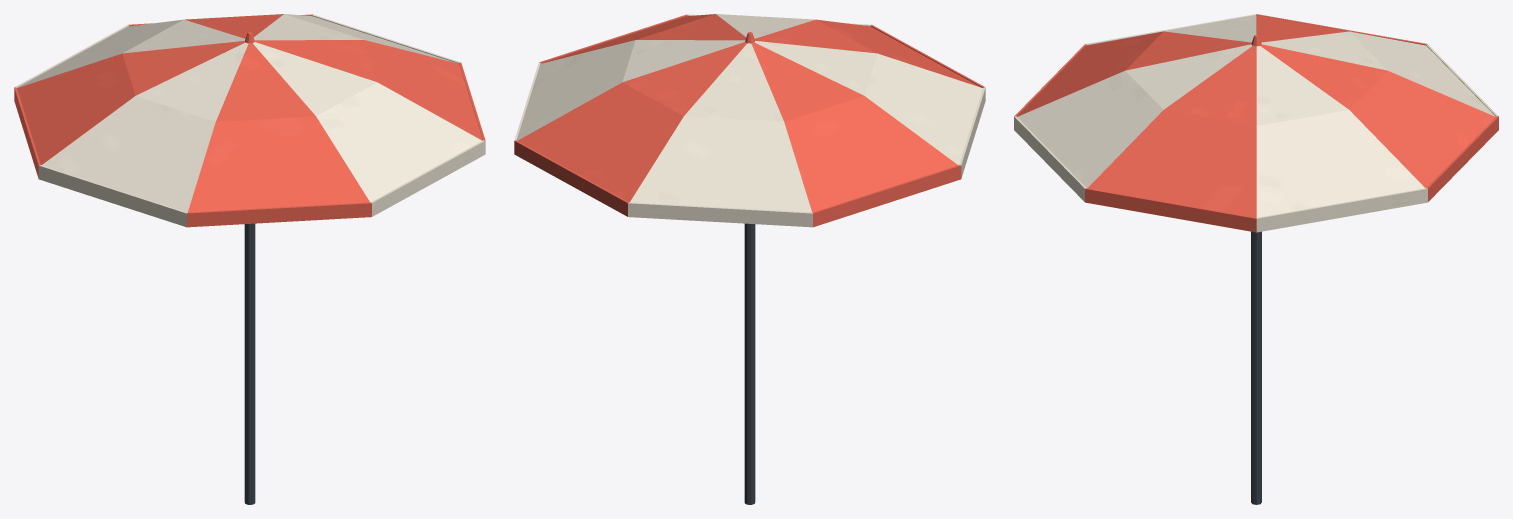
The model's file is umbrella.glb.
3 views of the same model, side by side, from view 1: azimuth 30°, elevation 25°; view 2: azimuth 150°, elevation 25°; view 3: azimuth 270°, elevation 25° (orthographic).
Parts seen in each view (by area): view 1: umbrella; view 2: umbrella; view 3: umbrella.
Part boxes in pixels (x1=…): umbrella: x1=14, y1=14, x2=485, y2=504; umbrella: x1=514, y1=14, x2=985, y2=504; umbrella: x1=1014, y1=14, x2=1498, y2=504.
Size of the model in its own units: 2.4 by 2.55 by 2.4.
Materials: 3 (3 with a texture image).
